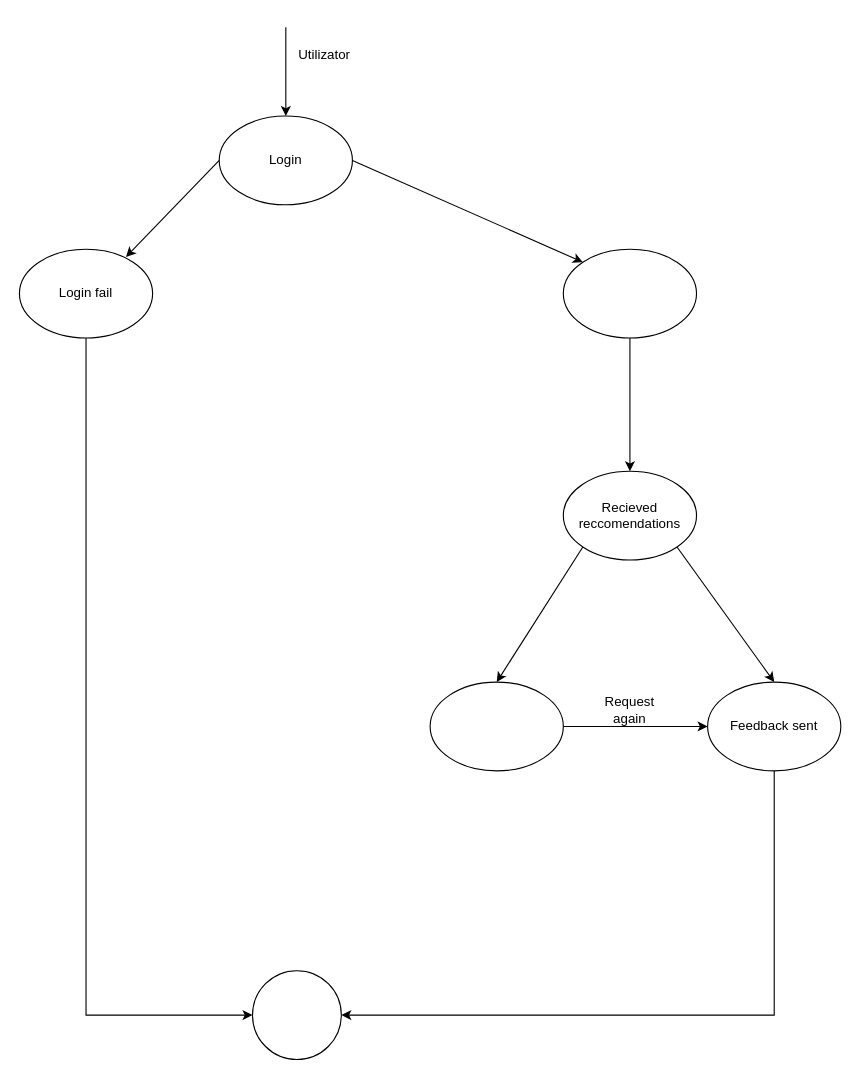
The diagram is 860 pixels wide and 1079 high, and some of its shapes have lost their labels. The box of each missing label's shape, as (x1, y1, x2, y2) in pixels:
Login success: (562, 248, 697, 338)
No feedback: (429, 681, 563, 771)
